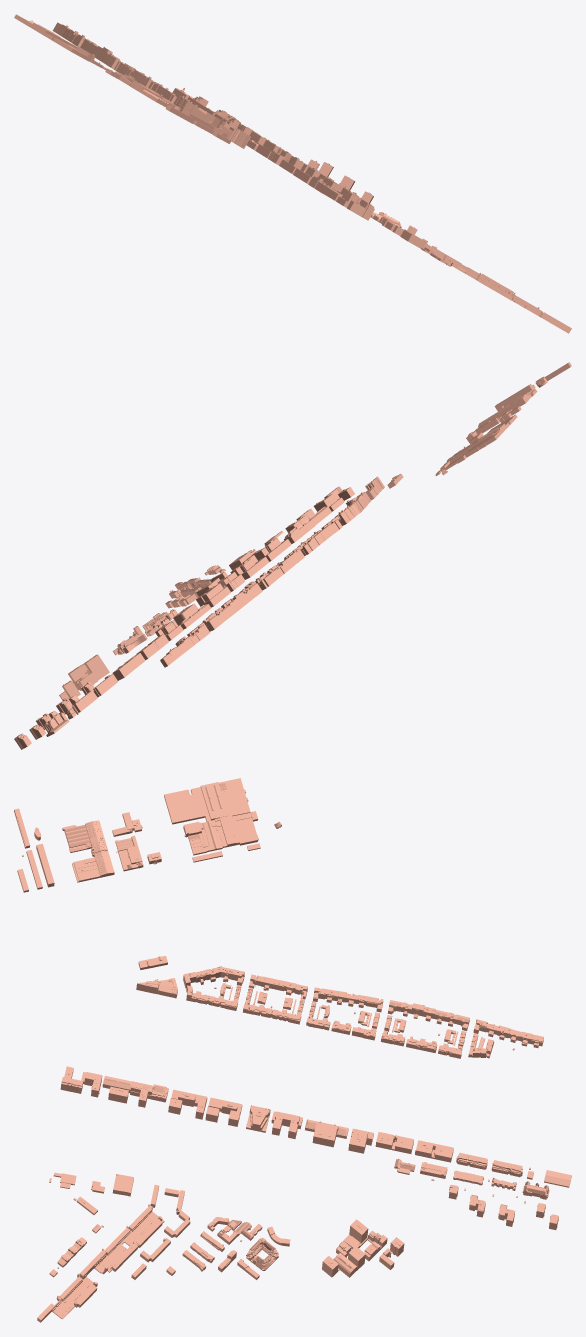
3 views of the same model, one above another, from view 1: azimuth 30°, elevation 25°; view 2: azimuth 150°, elevation 25°; view 3: azimuth 270°, elevation 25° (orthographic). The views are drawn at different scales.
Bounding box in the file's own units: 3.84e+07 × 2.85e+07 × 4.28e+07.
